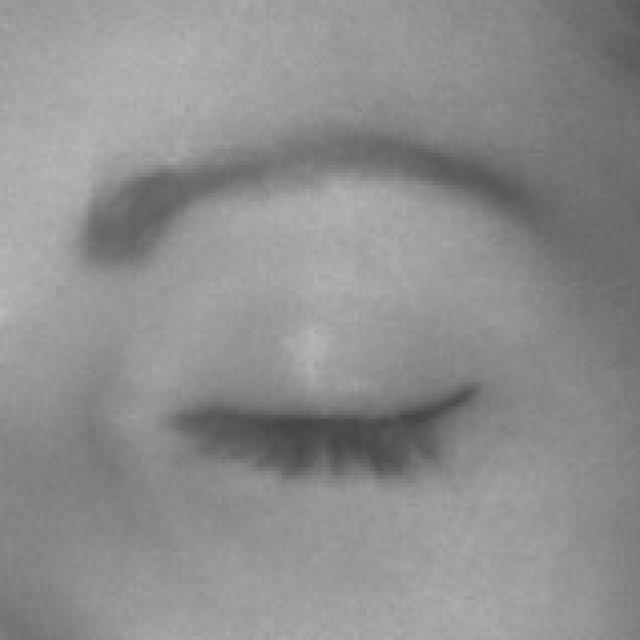close: (29, 80, 640, 585)
